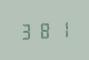eight: (36, 20, 52, 39)
one: (53, 19, 69, 38)
three: (18, 21, 34, 40)
